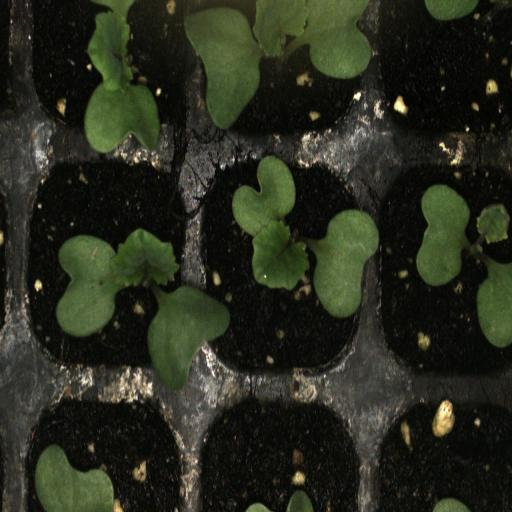Folha: (416, 184, 512, 286), (148, 284, 230, 394), (35, 444, 115, 512), (476, 259, 512, 348)
Germinacao: (17, 152, 193, 390), (196, 152, 367, 392), (369, 152, 512, 388), (20, 0, 196, 155), (199, 0, 368, 151)
